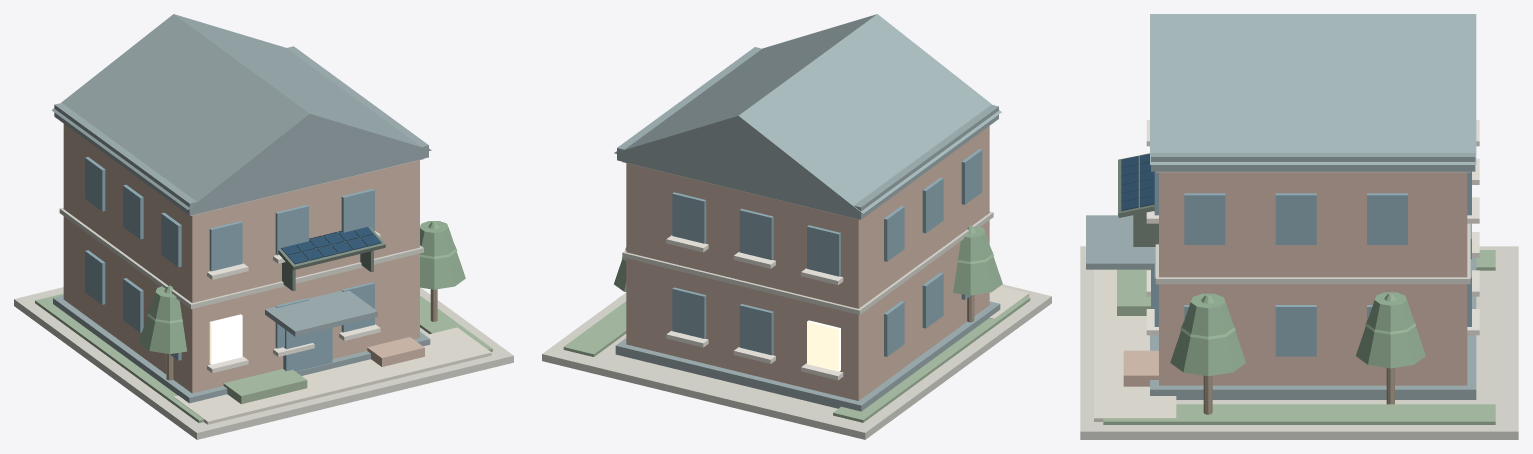
The model's file is remaster_house_23.glb.
3 views of the same model, side by side, from view 1: azimuth 30°, elevation 25°; view 2: azimuth 150°, elevation 25°; view 3: azimuth 270°, elevation 25° (orthographic). The views are drawn at different scales.
Parts seen in each view (by area): view 1: remaster_house_23 roof, remaster_house_23 brick, remaster_house_23 glass, remaster_house_23 stone, remaster_house_23 cream, remaster_house_23 green, remaster_house_23 leaf, remaster_house_23 white, remaster_house_23 warm, Solar frame.003; view 2: remaster_house_23 roof, remaster_house_23 brick, remaster_house_23 stone, remaster_house_23 glass, remaster_house_23 green, remaster_house_23 leaf, remaster_house_23 white, remaster_house_23 warm, remaster_house_23 cream; view 3: remaster_house_23 roof, remaster_house_23 brick, remaster_house_23 stone, remaster_house_23 glass, remaster_house_23 green, remaster_house_23 leaf, remaster_house_23 cream, remaster_house_23 white, Panel leg.007, remaster_house_23 bark, Solar frame.003.
Part boxes in pixels (x1,y1,x2,y2): remaster_house_23 roof: (51,14,431,403); remaster_house_23 brick: (63,124,424,393); remaster_house_23 glass: (85,157,374,371); remaster_house_23 stone: (14,158,513,439); remaster_house_23 cream: (174,327,491,424); remaster_house_23 green: (35,293,492,423); remaster_house_23 leaf: (138,221,465,353); remaster_house_23 white: (207,231,380,373); remaster_house_23 warm: (209,314,242,364); Solar frame.003: (278,227,385,270); remaster_house_23 roof: (614,14,1001,411); remaster_house_23 brick: (626,126,989,400); remaster_house_23 stone: (542,161,1051,439); remaster_house_23 glass: (672,149,982,356); remaster_house_23 green: (563,296,1030,422); remaster_house_23 leaf: (614,225,1002,295); remaster_house_23 white: (666,235,843,380); remaster_house_23 warm: (807,320,840,371); remaster_house_23 cream: (989,286,1029,318); remaster_house_23 roof: (1086,14,1476,399); remaster_house_23 brick: (1123,172,1467,386); remaster_house_23 stone: (1080,171,1518,439); remaster_house_23 glass: (1151,171,1471,356); remaster_house_23 green: (1103,250,1495,424); remaster_house_23 leaf: (1170,292,1425,376); remaster_house_23 cream: (1094,269,1176,421); remaster_house_23 white: (1146,120,1479,335); Panel leg.007: (1133,211,1158,246); remaster_house_23 bark: (1203,368,1394,414); Solar frame.003: (1118,153,1154,217).
Size of the model in its own units: 9.64 by 7.82 by 9.6.
